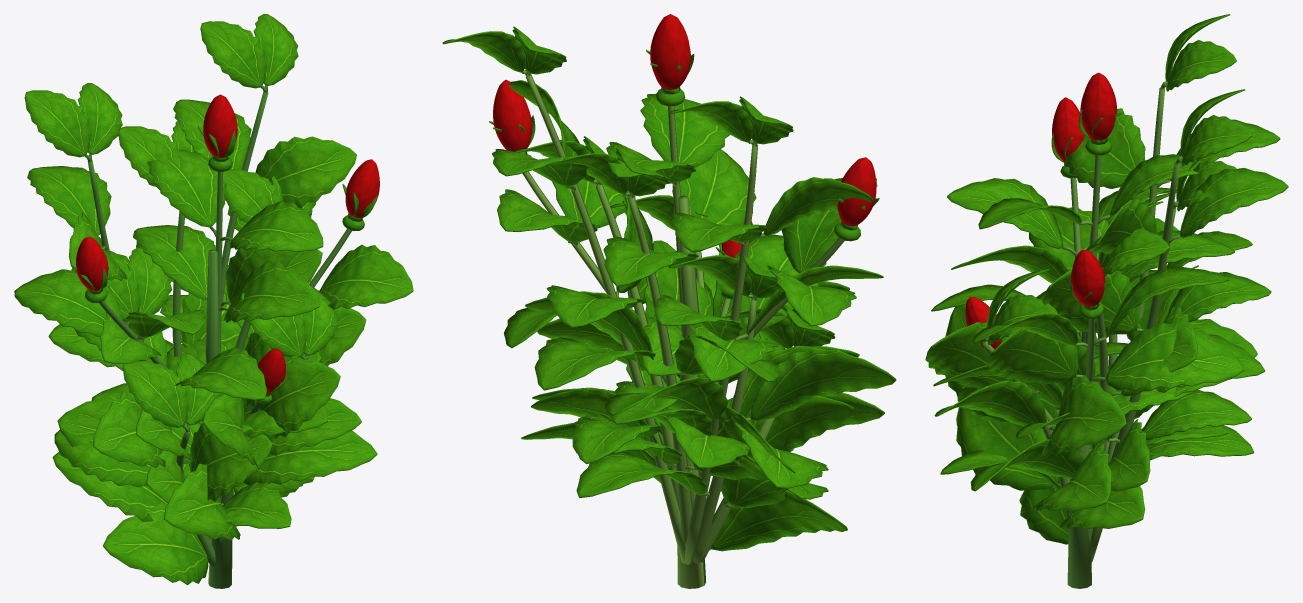
Rendered from NP_Hibiscus_BudForming.fbx.
3 views of the same model, side by side, from view 1: azimuth 30°, elevation 25°; view 2: azimuth 150°, elevation 25°; view 3: azimuth 270°, elevation 25° (orthographic). The views are drawn at different scales.
Visible parts, largest first — view 1: NP_Hibiscus_BudForming; view 2: NP_Hibiscus_BudForming; view 3: NP_Hibiscus_BudForming.
Part boxes in pixels (box(x1,y1,x2,y2)): NP_Hibiscus_BudForming: box(14, 14, 413, 588); NP_Hibiscus_BudForming: box(442, 14, 896, 588); NP_Hibiscus_BudForming: box(925, 14, 1288, 588).
Bounding box in the file's own units: 53.31 × 77.33 × 48.18.
